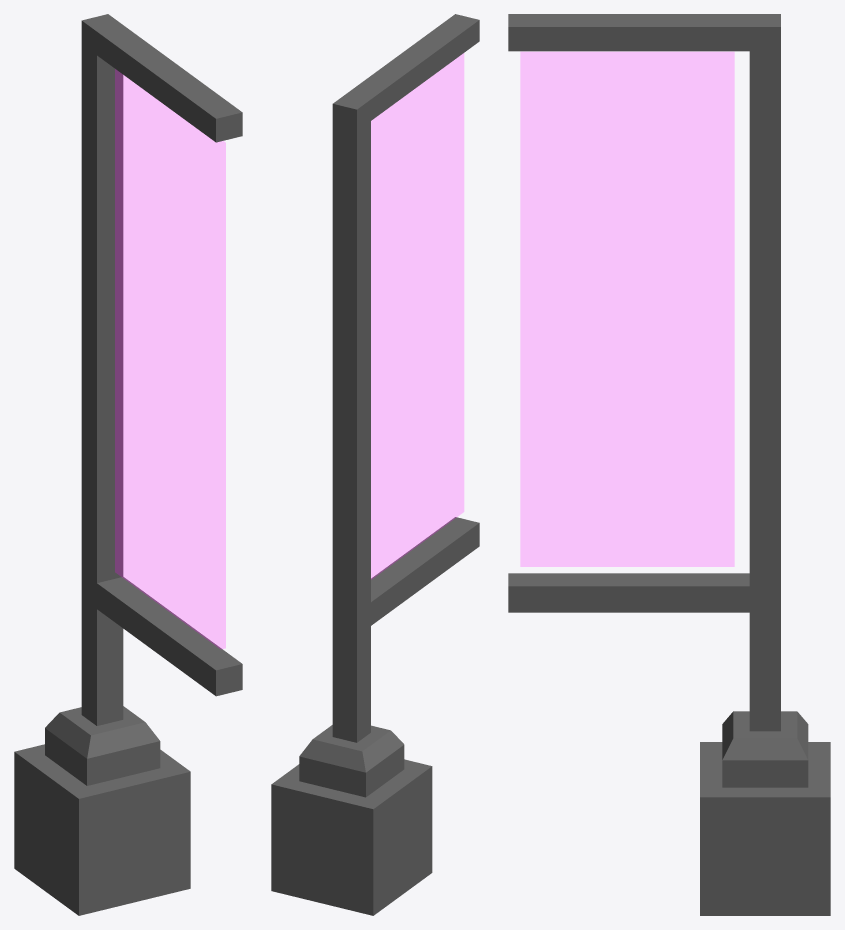
Rendered from flagTrackV0.0.01.fbx.
3 views of the same model, side by side, from view 1: azimuth 30°, elevation 25°; view 2: azimuth 150°, elevation 25°; view 3: azimuth 270°, elevation 25° (orthographic). The views are drawn at different scales.
Visible parts, largest first — view 1: pCube3; view 2: pCube3; view 3: pCube3.
Part boxes in pixels (x1=…): pCube3: x1=14, y1=14, x2=242, y2=915; pCube3: x1=271, y1=14, x2=479, y2=915; pCube3: x1=508, y1=14, x2=830, y2=915.
Bounding box in the file's own units: 50 × 366 × 123.
